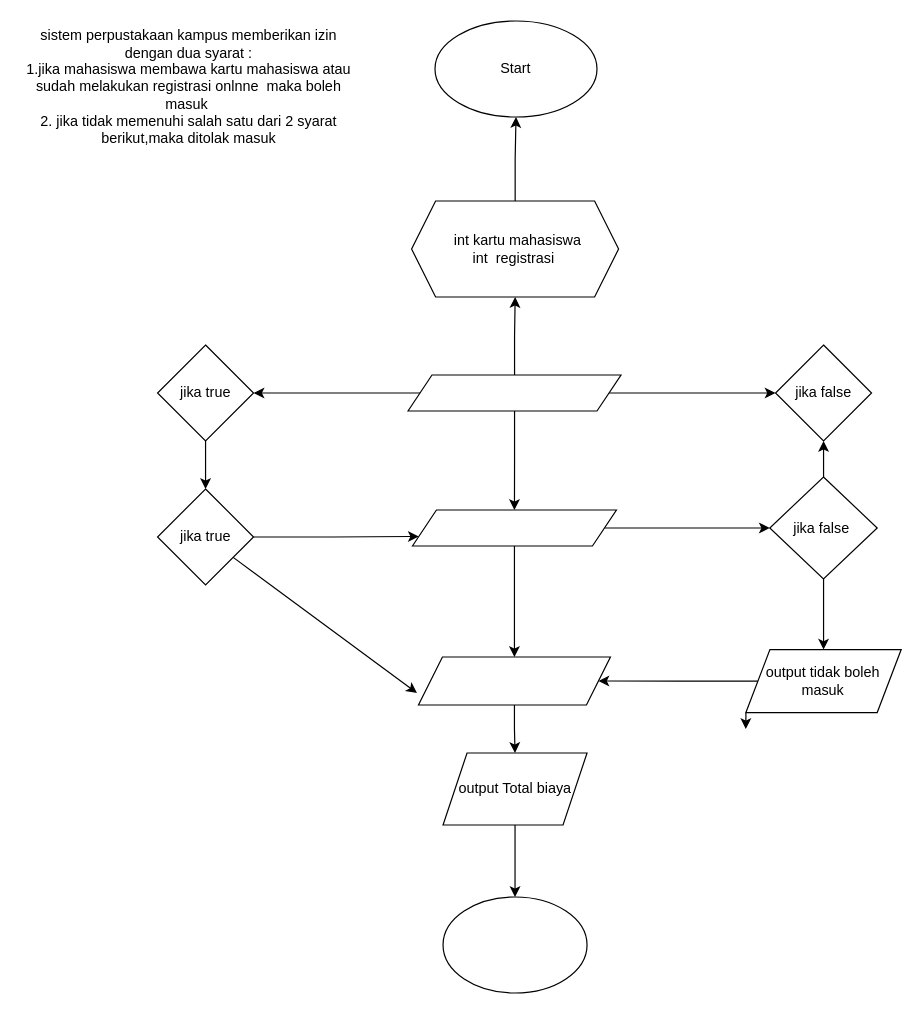
Some shapes in this 922 by 1014 pixel diagram are drawn without their labels. The centre of each missing label's shape, as x and y in pixels:
"END" belongs at point (514, 944).
"input kartu mahasiswa" belongs at point (514, 392).
"input registrasi" belongs at point (513, 527).
"output boleh masuk" belongs at point (513, 680).
